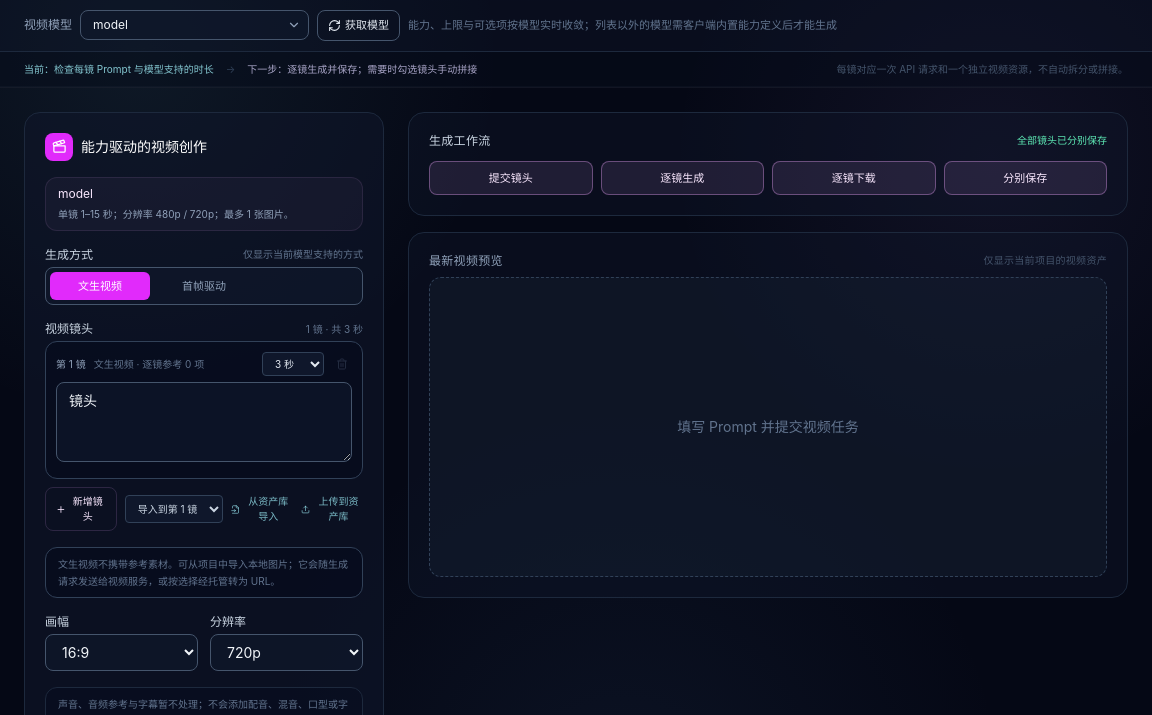
VideoPanel storyboard import › refreshes the video catalogue on demand and accepts a hand-typed model
The image size is (1152, 715).
Check: the dropdown named "视频模型" is shown, box [80,10,309,40]
Note: No credentials in the panel: the backend reuses the saved video config.
Click the button with aria-label "获取模型（视频模型）": (358, 25) [317,10,400,40]
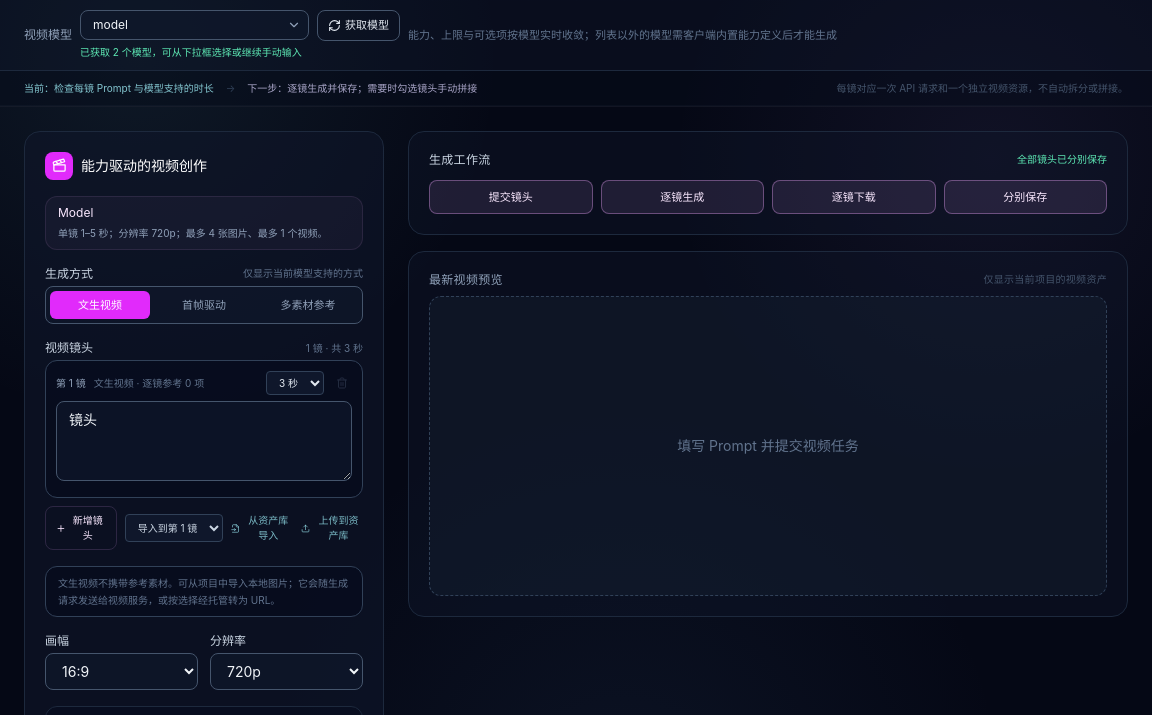
Click the button named "展开视频模型列表": (294, 25) [283,14,305,36]
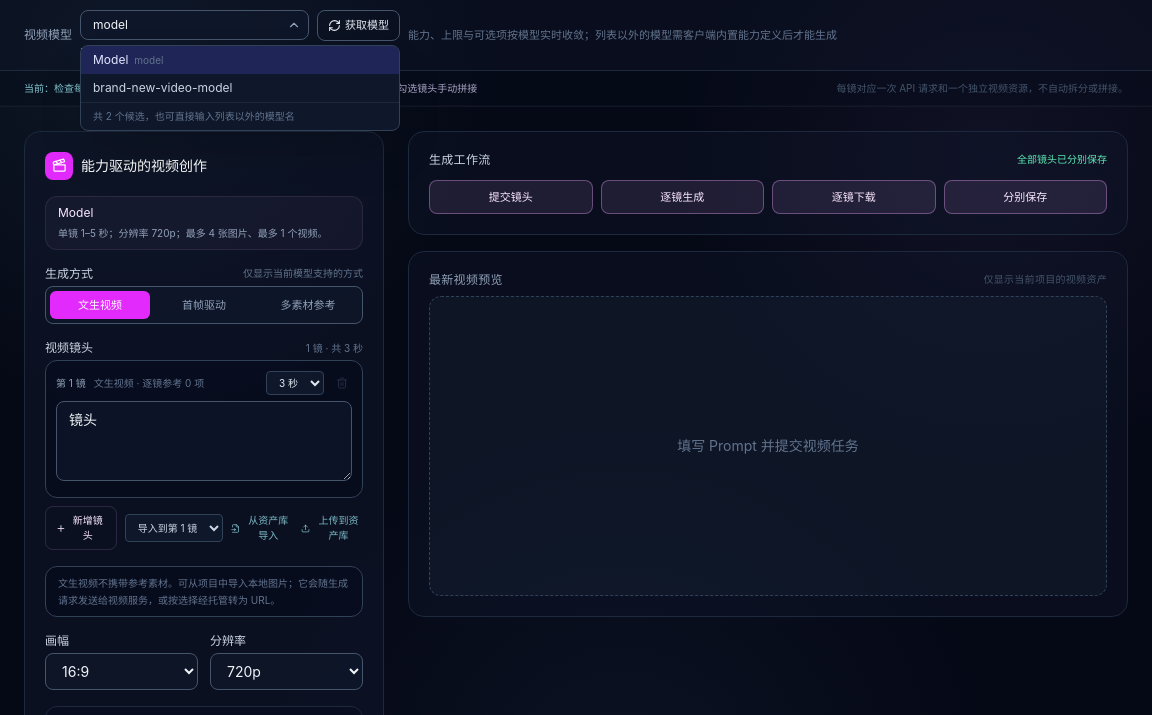
Check: the option "brand-new-video-model" is shown
Click the option "brand-new-video-model": (163, 87) [81,74,399,102]
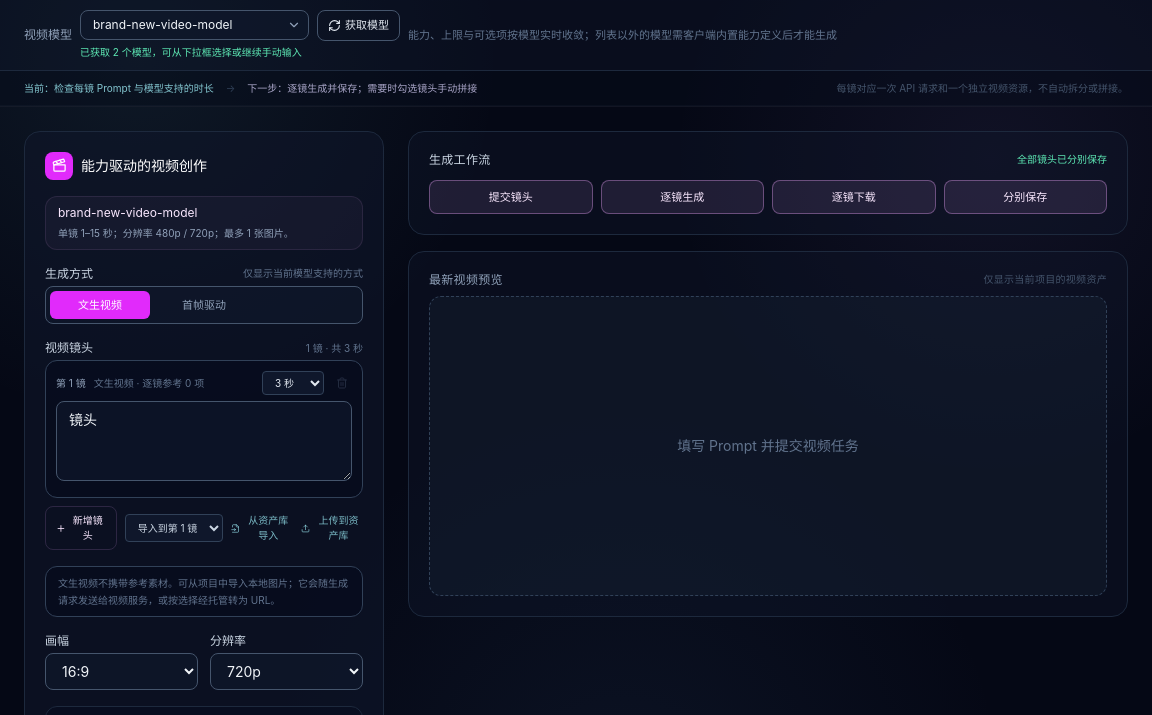
Check: the text "brand-new-video-model" is shown, box [58,204,197,220]
Replace the text in the dropdown named "视频模型" with "自填视频模型": (194, 25) [80,10,309,40]
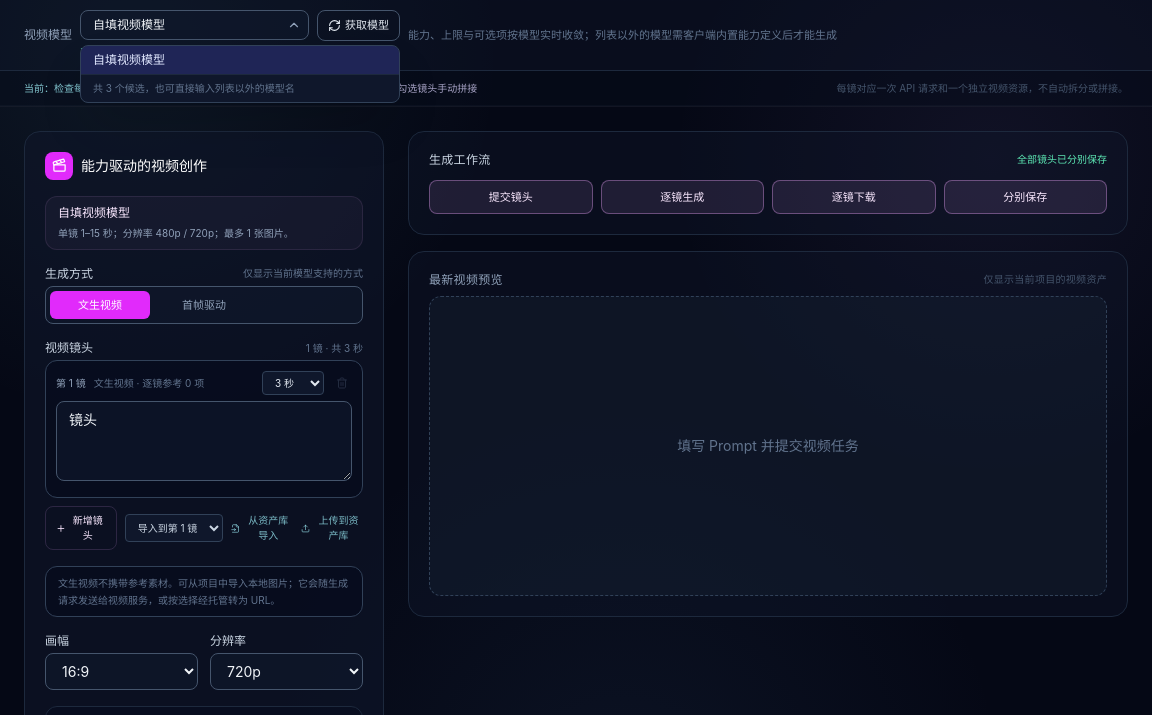
Check: the text "已获取 2 个模型，可从下拉框选择或继续手动输入" is shown, box [80,46,302,58]
Check: the option "自填视频模型" is shown, box [81,46,399,74]
